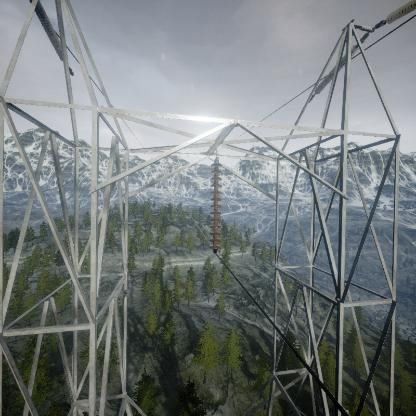insulator: (312, 38, 363, 98), (28, 0, 71, 66), (208, 157, 225, 255)
